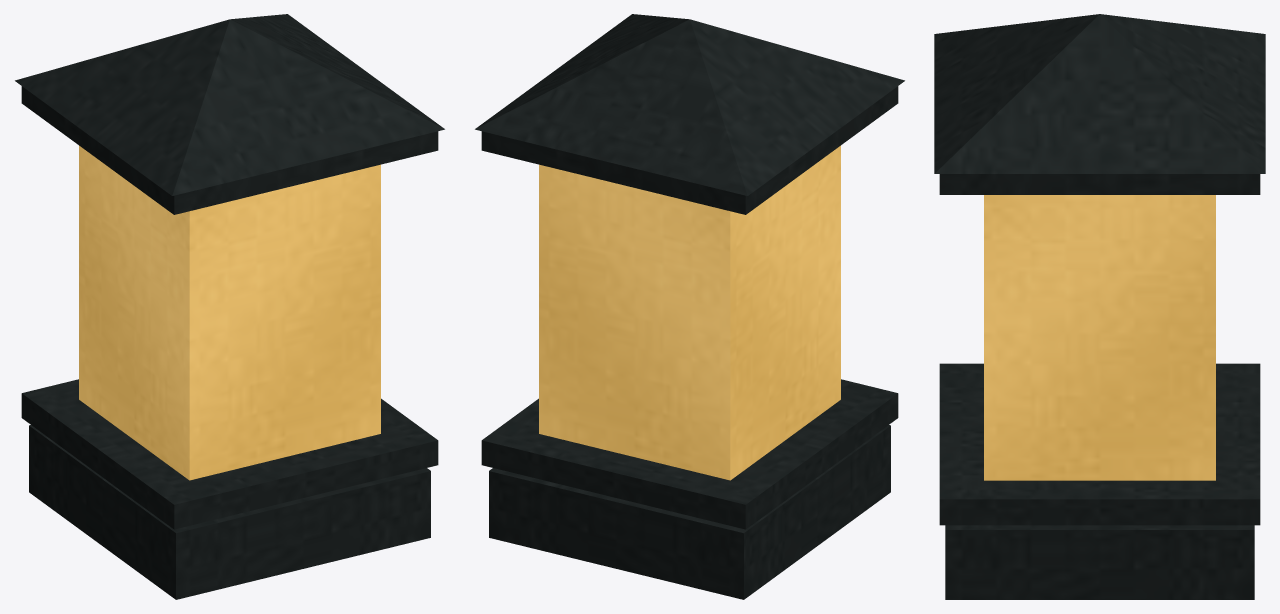
3 renders of one model, left to right at view 1: azimuth 30°, elevation 25°; view 2: azimuth 150°, elevation 25°; view 3: azimuth 270°, elevation 25°, orthographic. The views are drawn at different scales.
Parts seen in each view (by area): view 1: lantern; view 2: lantern; view 3: lantern.
Part boxes in pixels (box(x1,y1,x2,y2)): lantern: box(15, 14, 444, 599); lantern: box(475, 14, 904, 599); lantern: box(934, 14, 1265, 599).
Size of the model in its own units: 0.3 by 0.52 by 0.3.
3 materials, 3 textured.
